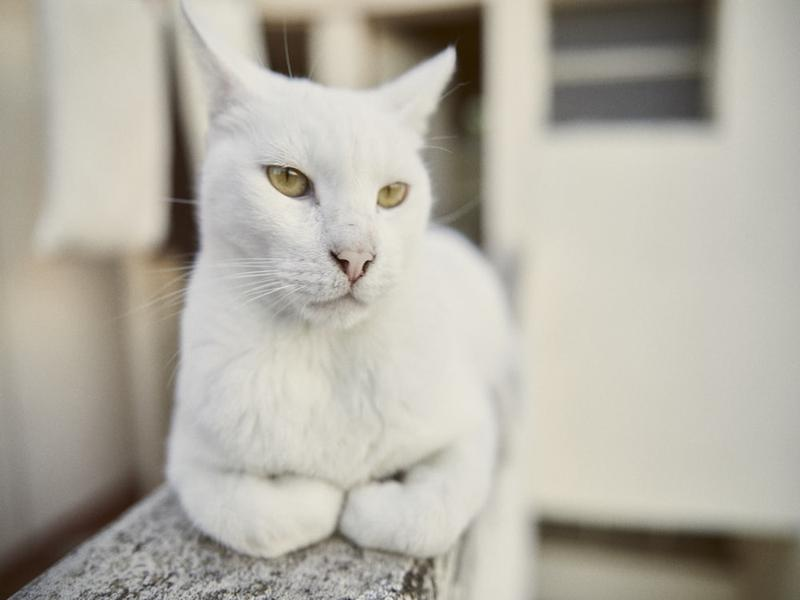cat: (162, 4, 523, 566)
